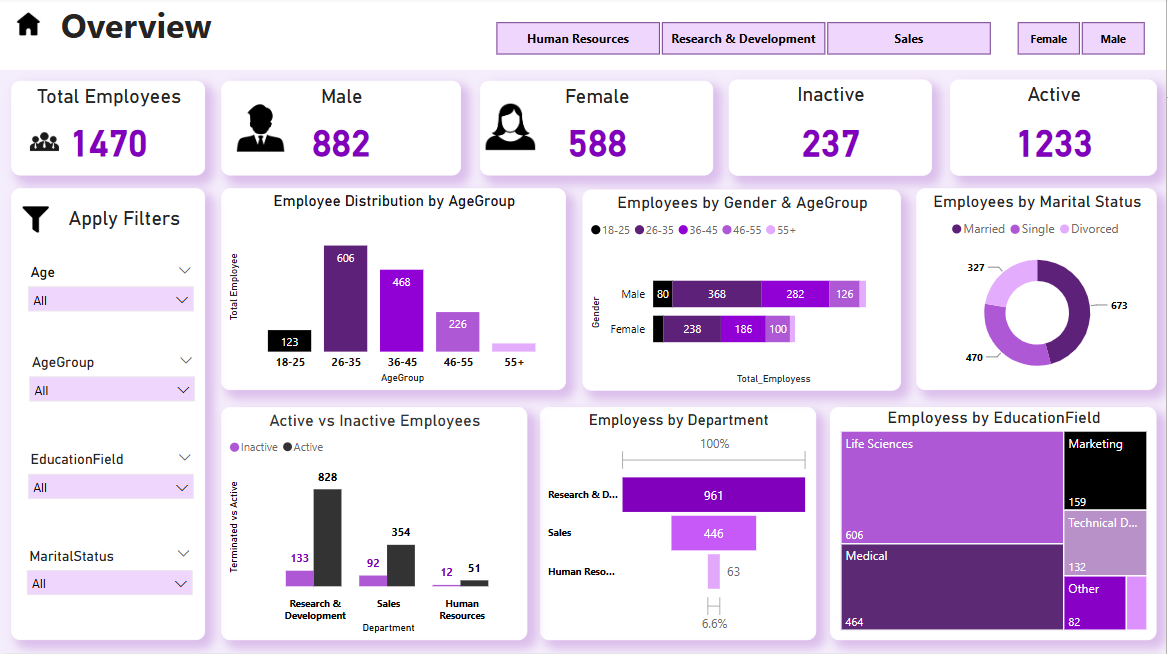

The dashboard page shown, as its layout file describes it:
{"tool":"powerbi","page":{"name":"Overview","canvas":[1280,720],"ordinal":1},"visuals":[{"type":"card","title":"Total Employees","fields":{"Values":["HR_Analytics$.Total_Employess"]},"box":[12.9,91.4,212.9,104.3],"z":0},{"type":"card","title":"Male","fields":{"Values":["HR_Analytics$.Total_Male"]},"box":[242.9,91.4,262.9,104.3],"z":1000},{"type":"card","title":"Female","fields":{"Values":["HR_Analytics$.Total_Female"]},"box":[527.1,91.4,255.7,104.3],"z":2000},{"type":"card","title":"Inactive","fields":{"Values":["HR_Analytics$.Exit_Employees"]},"box":[800,90,222.9,105.7],"z":3000},{"type":"card","title":"Active","fields":{"Values":["HR_Analytics$.Present_Employee"]},"box":[1042.9,90,227.1,105.7],"z":4000},{"type":"donutChart","title":"Employees by Marital Status","fields":{"Y":["HR_Analytics$.Total_Employess"],"Category":["HR_Analytics$.MaritalStatus"]},"box":[1005.7,210,264.3,221.4],"z":5000},{"type":"funnel","title":"Employess by Department","fields":{"Category":["HR_Analytics$.Department"],"Y":["HR_Analytics$.Total_Employess"]},"box":[592.9,450,302.9,255.7],"z":6000},{"type":"clusteredColumnChart","title":"Employee Distribution by AgeGroup","fields":{"Category":["HR_Analytics$.AgeGroup"],"Y":["HR_Analytics$.Total_Employess"]},"box":[242.9,210,378.6,221.4],"z":7000},{"type":"barChart","title":"Employees by Gender & AgeGroup","fields":{"Category":["HR_Analytics$.Gender"],"Y":["HR_Analytics$.Total_Employess"],"Series":["HR_Analytics$.AgeGroup"]},"box":[639.5,211.3,349.9,220.9],"z":8000},{"type":"clusteredColumnChart","title":"Active vs Inactive Employees","fields":{"Y":["HR_Analytics$.Exit_Employees","HR_Analytics$.Present_Employee"],"Category":["HR_Analytics$.Department"]},"box":[242.9,450,335.7,255.7],"z":9000},{"type":"treemap","title":"Employess by EducationField","fields":{"Values":["HR_Analytics$.Total_Employess"],"Group":["HR_Analytics$.EducationField"]},"box":[911.4,450,358.6,255.7],"z":10000},{"type":"textbox","box":[0,0,1280,80],"z":11000},{"type":"slicer","fields":{"Values":["HR_Analytics$.Gender"]},"box":[1090.9,20.6,189.4,49.4],"z":12000},{"type":"slicer","fields":{"Values":["HR_Analytics$.Department"]},"box":[518.7,20.6,592.8,49.4],"z":13000},{"type":"textbox","box":[12.9,210,212.9,495.7],"z":14000},{"type":"slicer","fields":{"Values":["HR_Analytics$.Age"]},"box":[20.6,288.2,201.7,65.9],"z":15000},{"type":"slicer","fields":{"Values":["HR_Analytics$.AgeGroup"]},"box":[22,387,201.7,63.1],"z":16000},{"type":"slicer","fields":{"Values":["HR_Analytics$.EducationField"]},"box":[20.6,494,201.7,65.9],"z":17000},{"type":"slicer","fields":{"Values":["HR_Analytics$.MaritalStatus"]},"box":[19.2,599.7,201.7,61.7],"z":18000},{"type":"image","box":[12.3,120.8,72.7,75.5],"z":19000},{"type":"image","box":[255.2,109.8,61.7,67.2],"z":20000},{"type":"image","box":[528.3,105.7,64.5,74.1],"z":21000},{"type":"image","box":[19.2,225,39.8,38.4],"z":22000},{"type":"textbox","box":[59,225,155.1,38.4],"z":23000},{"type":"image","box":[0,0,61.7,59],"z":24000}]}

Visuals, with their boxes in screenshot pixels (x1, y1, x2, y2), scaled from the page's 1280x720 canvas onto the 1168x654 screenshot:
"Total Employees" card: select_region(12, 83, 206, 178)
"Male" card: select_region(222, 83, 462, 178)
"Female" card: select_region(481, 83, 714, 178)
"Inactive" card: select_region(730, 82, 933, 178)
"Active" card: select_region(952, 82, 1159, 178)
"Employees by Marital Status" donutChart: select_region(918, 191, 1159, 392)
"Employess by Department" funnel: select_region(541, 409, 817, 641)
"Employee Distribution by AgeGroup" clusteredColumnChart: select_region(222, 191, 567, 392)
"Employees by Gender & AgeGroup" barChart: select_region(584, 192, 903, 393)
"Active vs Inactive Employees" clusteredColumnChart: select_region(222, 409, 528, 641)
"Employess by EducationField" treemap: select_region(832, 409, 1159, 641)
textbox: select_region(0, 0, 1167, 73)
slicer - HR_Analytics$.Gender: select_region(995, 19, 1167, 64)
slicer - HR_Analytics$.Department: select_region(473, 19, 1014, 64)
textbox: select_region(12, 191, 206, 641)
slicer - HR_Analytics$.Age: select_region(19, 262, 203, 322)
slicer - HR_Analytics$.AgeGroup: select_region(20, 352, 204, 409)
slicer - HR_Analytics$.EducationField: select_region(19, 449, 203, 509)
slicer - HR_Analytics$.MaritalStatus: select_region(18, 545, 202, 601)
image: select_region(11, 110, 78, 178)
image: select_region(233, 100, 289, 161)
image: select_region(482, 96, 541, 163)
image: select_region(18, 204, 54, 239)
textbox: select_region(54, 204, 195, 239)
image: select_region(0, 0, 56, 54)
